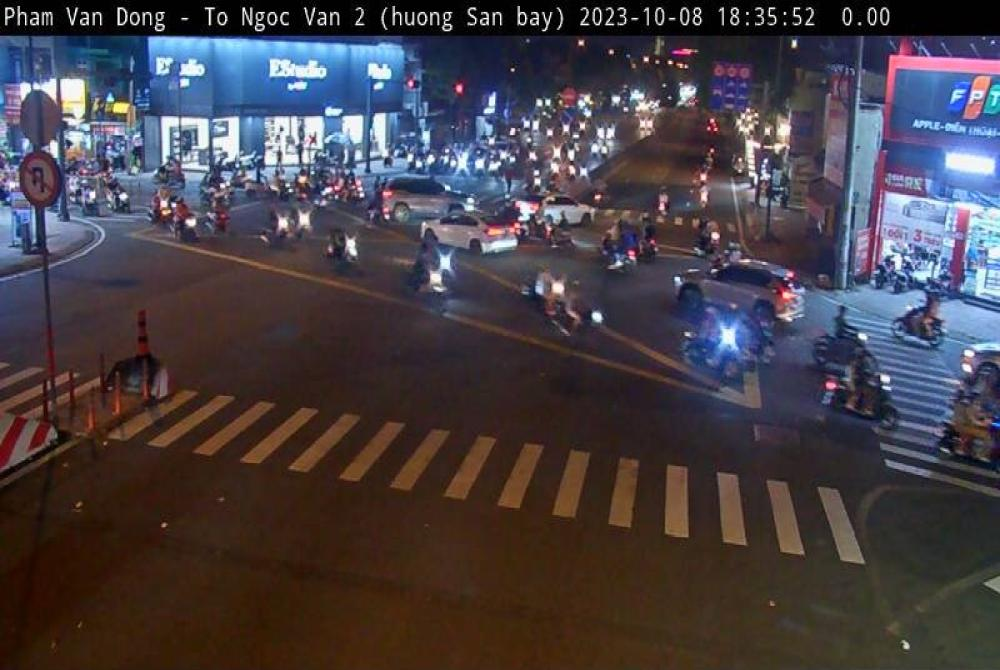car: (671, 243, 821, 346), (422, 202, 531, 264), (511, 178, 594, 242), (379, 168, 468, 226)
